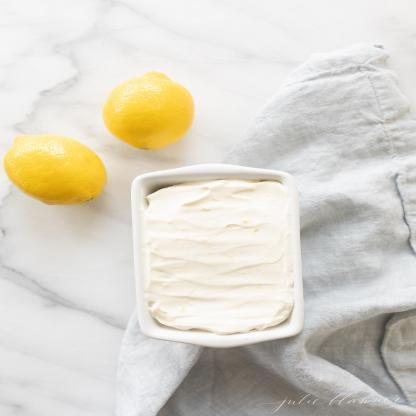lemon: (3, 134, 107, 206), (102, 72, 194, 150)
